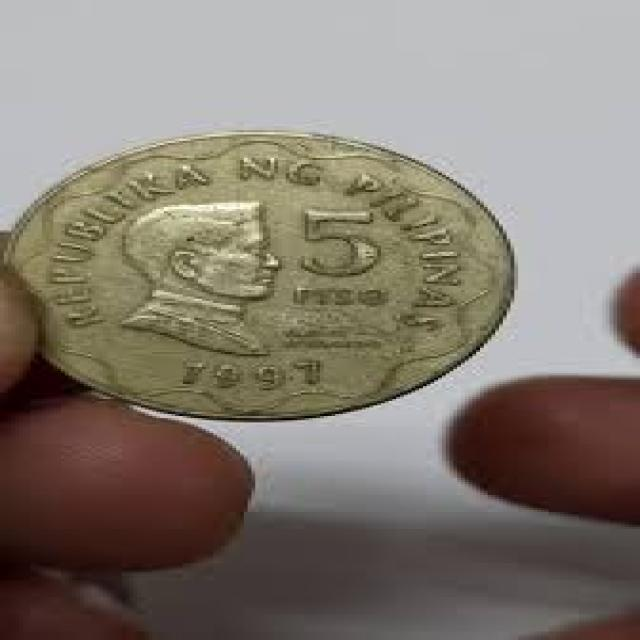5 peso-old: (0, 120, 534, 428)
